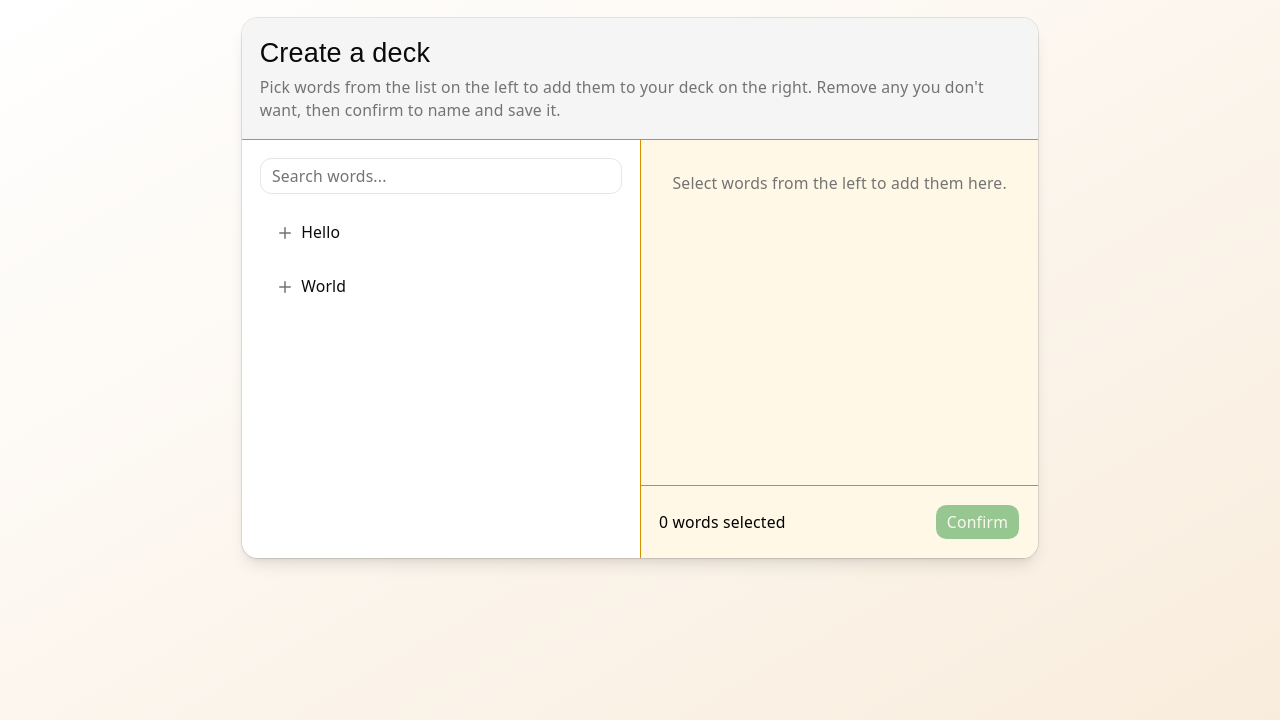
Scenario: CreateDeckPage › shows an error message when deck creation fails
The width and height of the screenshot is (1280, 720).
Click the button "Hello".
click(321, 232)  # box [264,208,618,258]
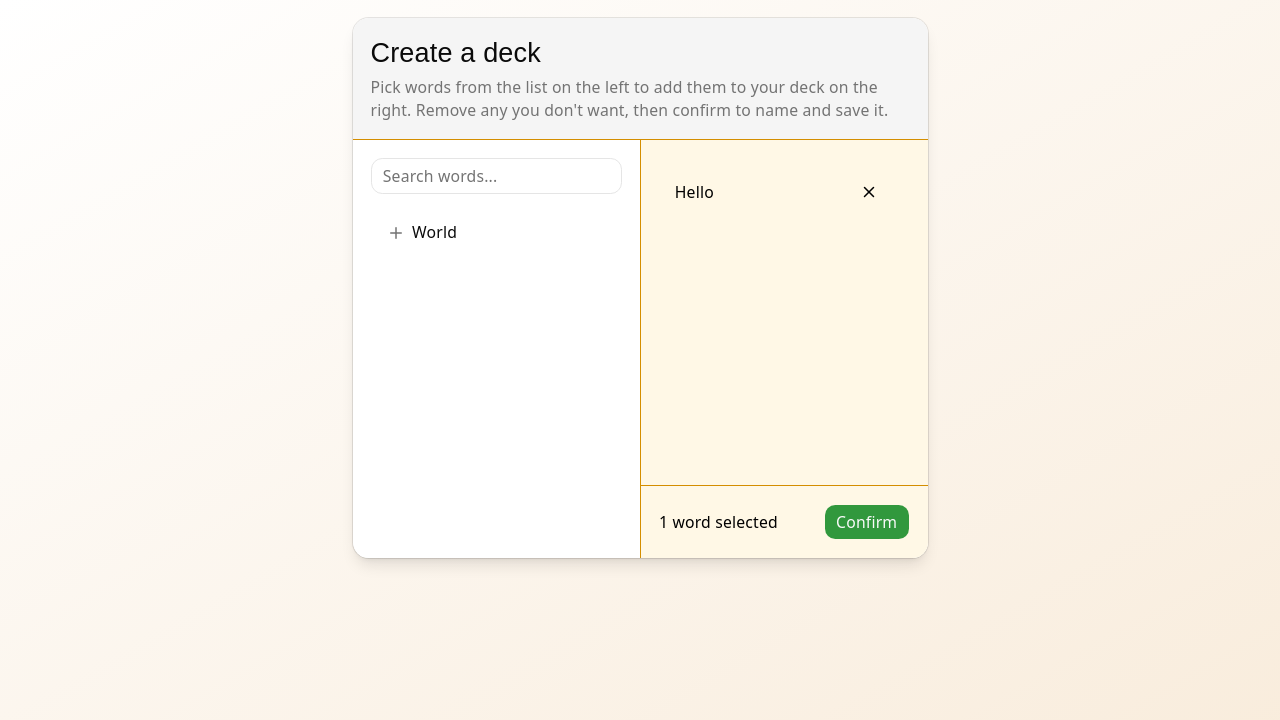
Click the button "Confirm".
click(867, 522)  # box [824,504,910,540]
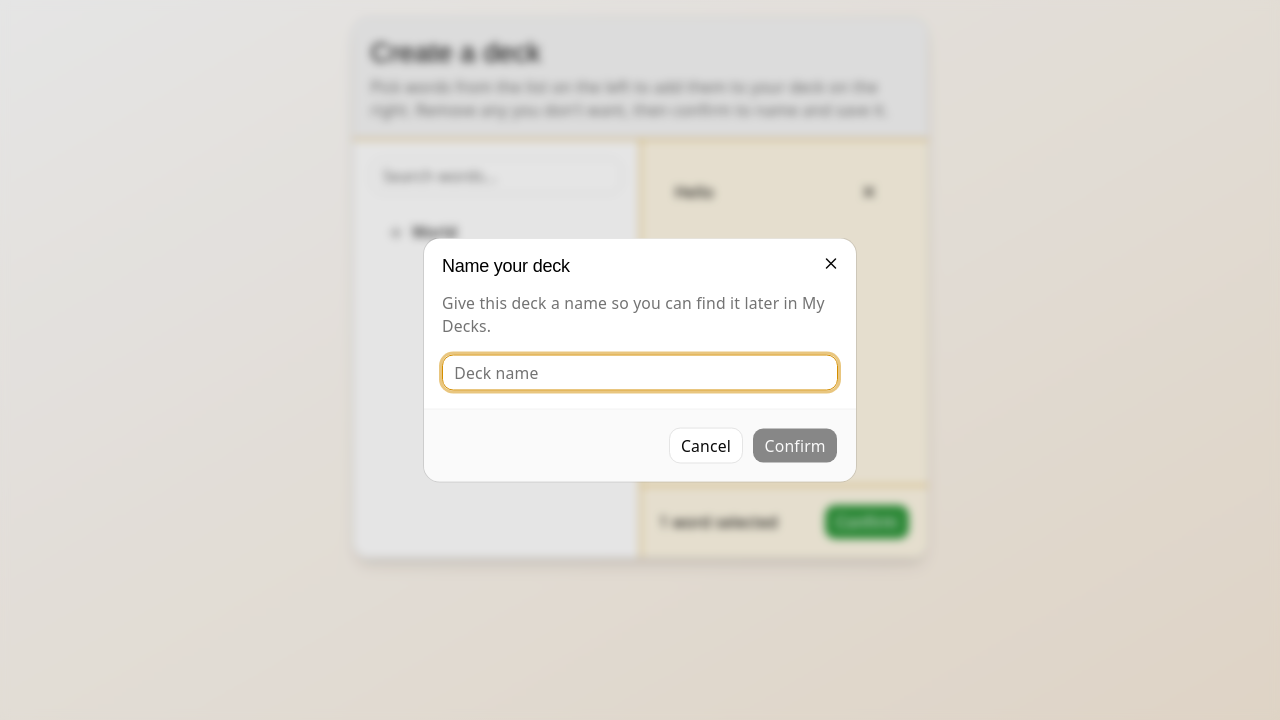
Type "My Greetings" into the field with placeholder "Deck name".
click(640, 372); type("My Greetings")  # box [442,354,838,390]
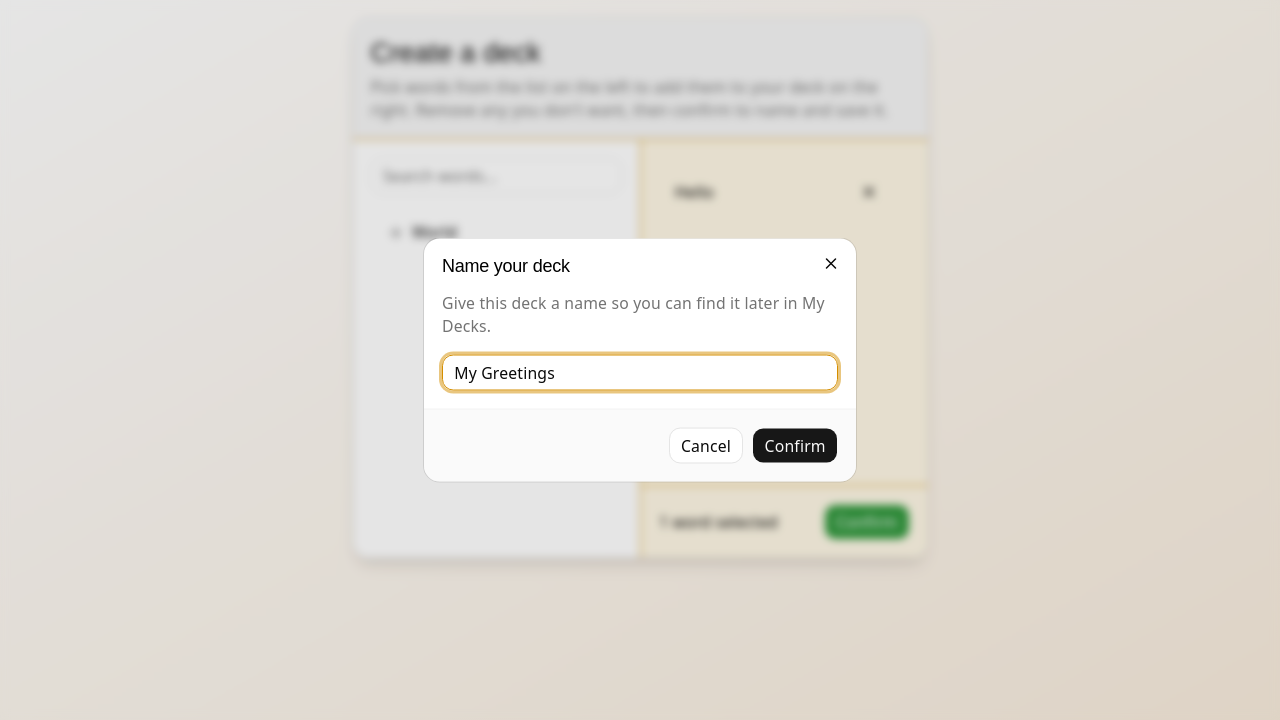
Click the button "Confirm".
click(795, 446)  # box [752,428,838,464]
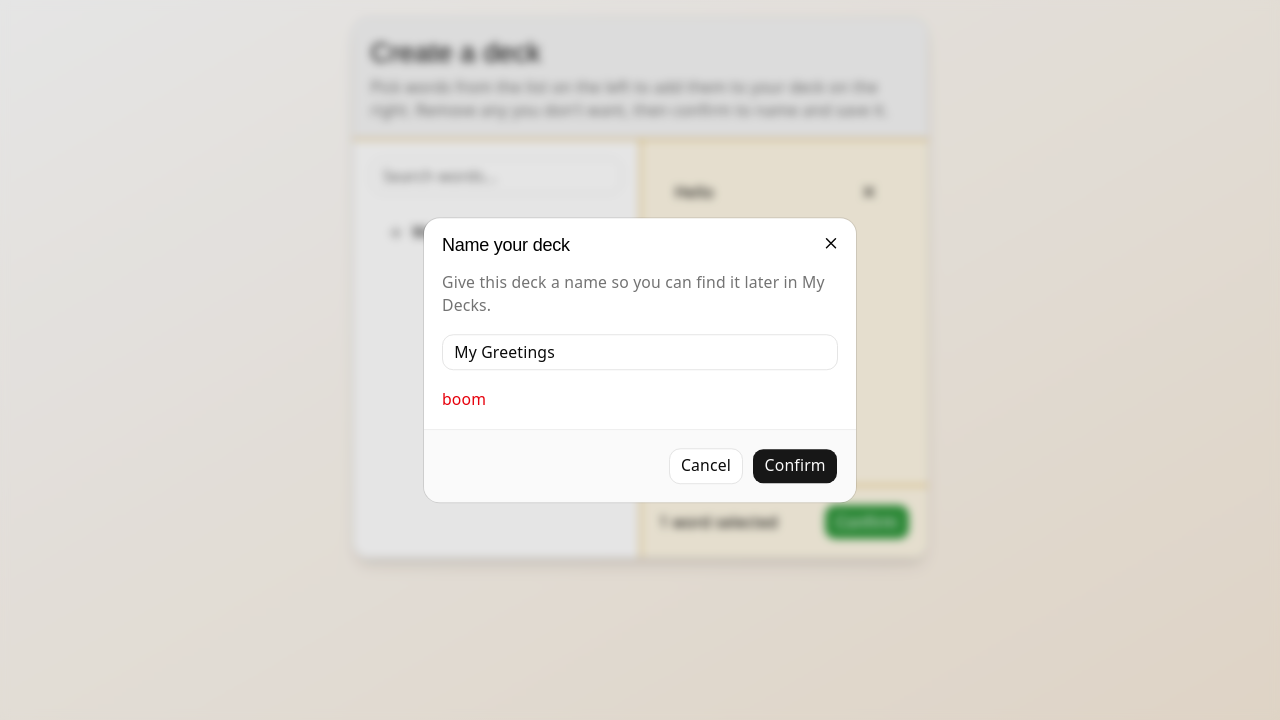
Expected: the text "boom" is shown, [442,388,486,410]
